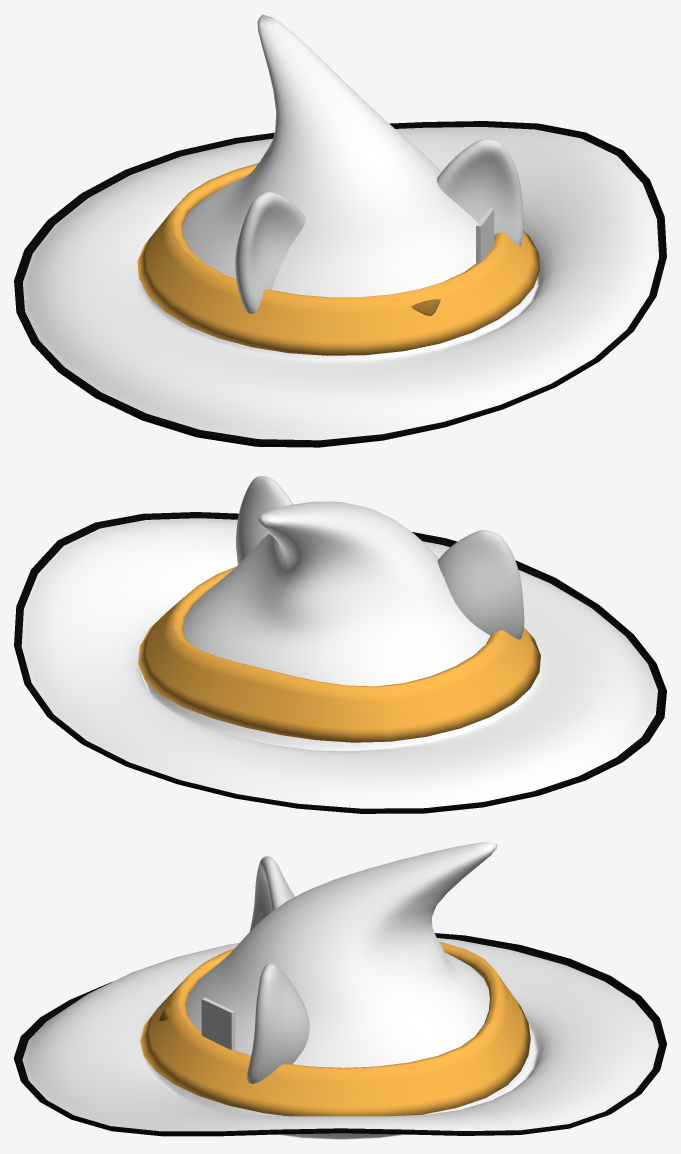
File: hat.fbx
3 renders of one model, top to bottom at view 1: azimuth 30°, elevation 25°; view 2: azimuth 150°, elevation 25°; view 3: azimuth 270°, elevation 25°, orthographic.
Visible parts, largest first — view 1: Circle, Plane.001, Plane; view 2: Circle, Plane.001; view 3: Circle, Plane.001, Plane.
Part boxes in pixels (x1,y1,x2,y2): Circle: [14, 14, 666, 447]; Plane.001: [235, 138, 523, 313]; Plane: [476, 208, 494, 263]; Circle: [14, 501, 666, 813]; Plane.001: [236, 476, 524, 639]; Circle: [14, 842, 666, 1139]; Plane.001: [246, 856, 309, 1083]; Plane: [201, 997, 235, 1050].
Size of the model in its own units: 182 by 74.48 by 182.
